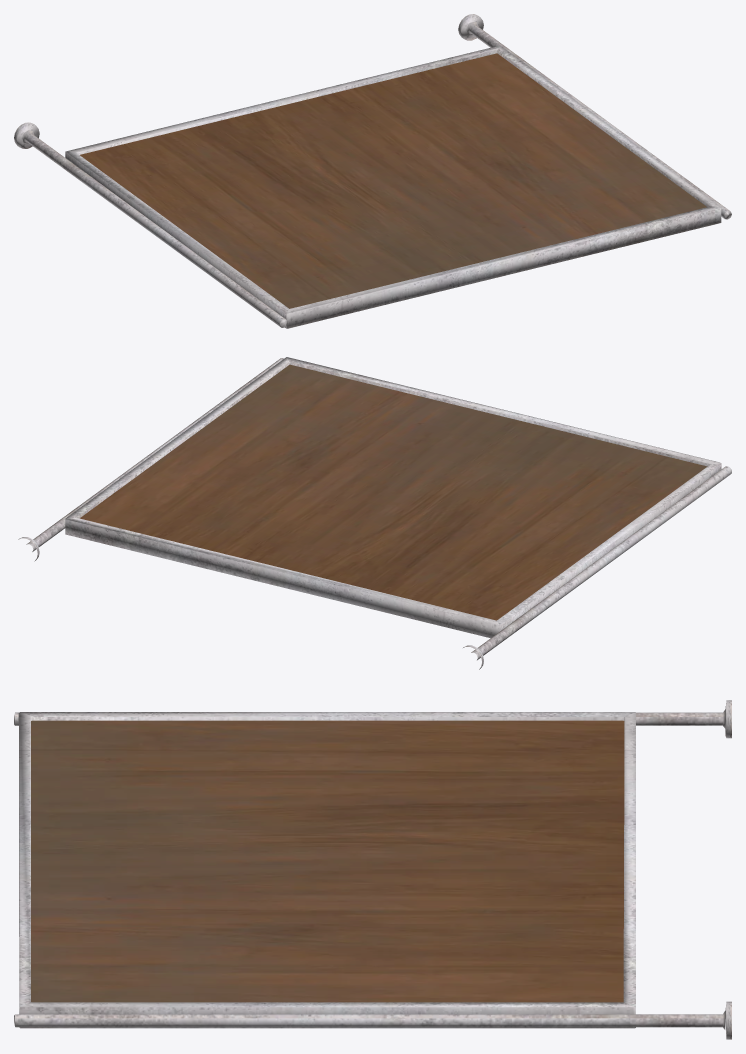
Rendered from cubicle_wall_150.glb.
3 views of the same model, one above another, from view 1: azimuth 30°, elevation 25°; view 2: azimuth 150°, elevation 25°; view 3: azimuth 270°, elevation 25° (orthographic). The views are drawn at different scales.
Parts seen in each view (by area): view 1: cubicle_wall_150; view 2: cubicle_wall_150; view 3: cubicle_wall_150.
Boxes of the visible parts, x1,y1,x2,y2 form: cubicle_wall_150: (14,14,731,328); cubicle_wall_150: (18,357,731,669); cubicle_wall_150: (14,700,731,1039).
Size of the model in its own units: 1.58 by 0.08 by 1.51.
1 material, 1 textured.
